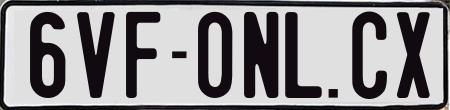0: (195, 12, 233, 99)
6: (28, 10, 64, 96)
C: (350, 10, 389, 99)
F: (125, 9, 162, 99)
L: (285, 10, 324, 100)
N: (243, 11, 280, 100)
V: (74, 12, 112, 99)
X: (396, 10, 429, 100)
